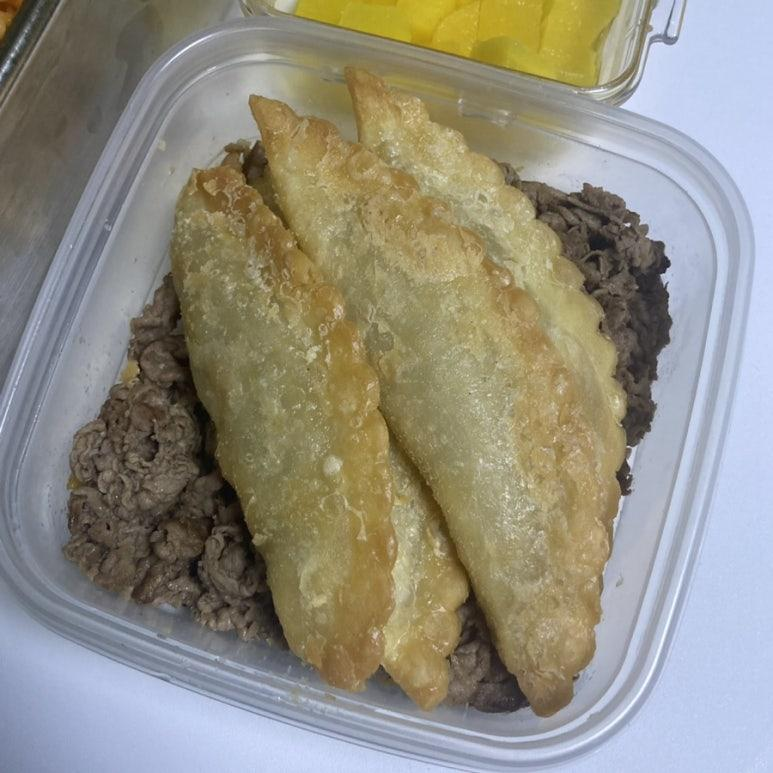Lunch Box: (0, 16, 752, 769), (0, 0, 240, 390), (240, 0, 685, 101)
